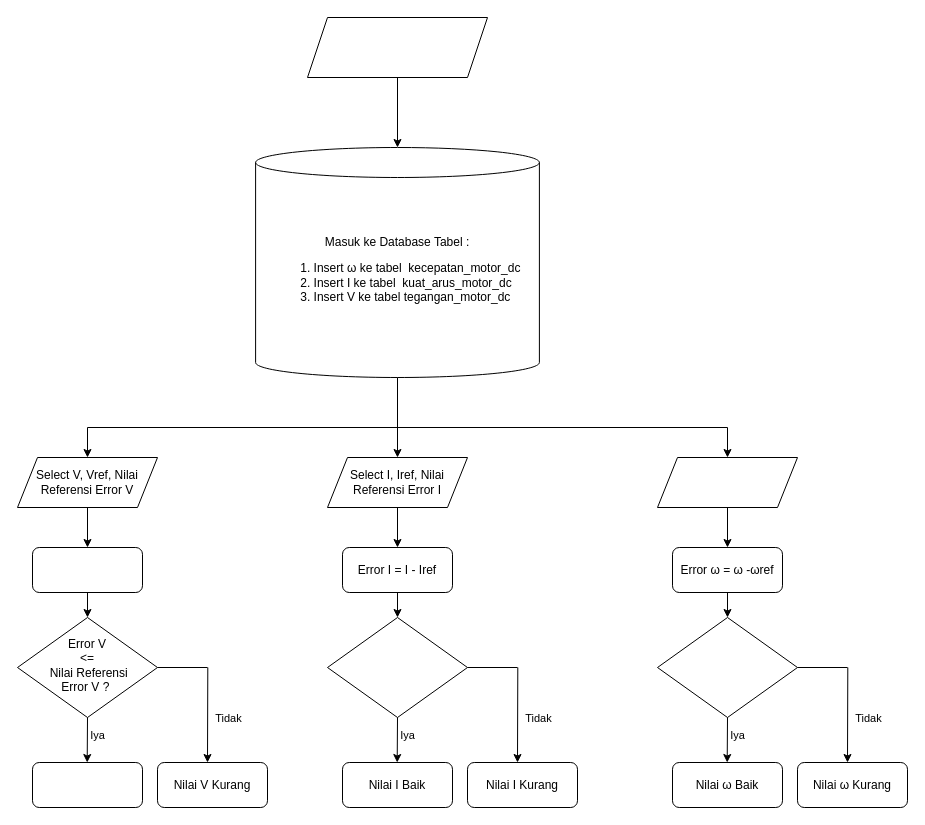
Image size: 925x825. Some labels were removed from this diagram. Here are the shapes that lost their labels. From the top down, the centre of each, then its label:
At (x=397, y=47): "Read V , I , ω".
At (x=727, y=482): "Select ω,ωref, Nilai Referensi Error ω".
At (x=87, y=569): "Error V = V - Vref".
At (x=397, y=667): "Error I <= Nilai Referensi Error I ?".
At (x=727, y=667): "Error ω <= Nilai Referensi Error ω ?".
At (x=87, y=785): "Nilai V Baik".
